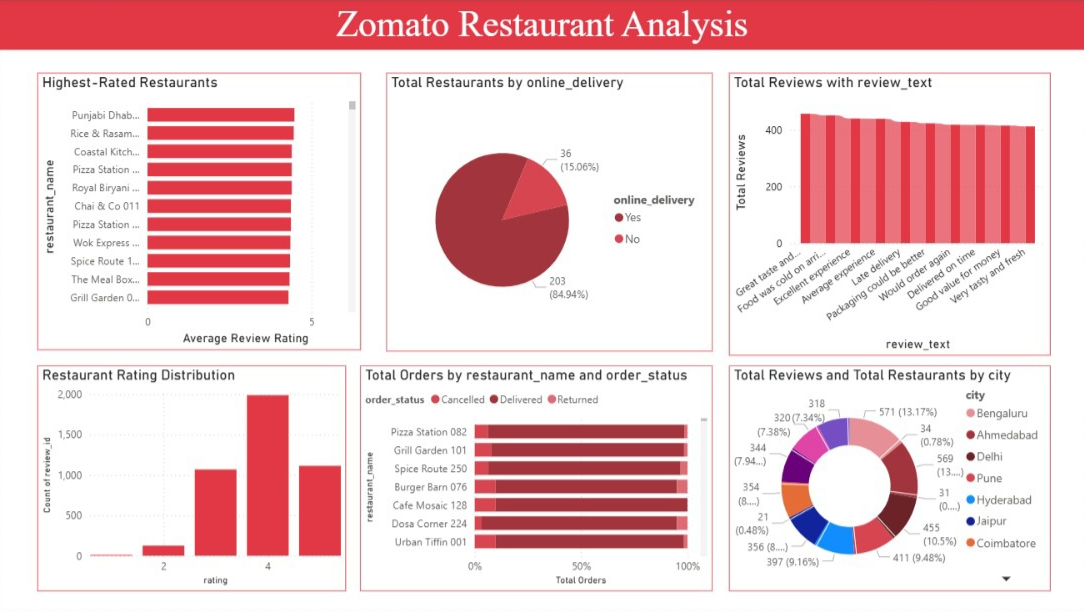

Layout of this report page (visuals, bound fields, positions):
{"tool":"powerbi","page":{"name":"Zomato Restaurant Analysis","canvas":[1280,720],"ordinal":1},"visuals":[{"type":"clusteredBarChart","title":"Highest-Rated Restaurants","fields":{"Category":["zomato_analytics restaurants.restaurant_name"],"Y":["zomato_analytics reviews.Average Review Rating"]},"box":[47.5,86.4,379.7,325.4],"z":0},{"type":"ribbonChart","title":"Total Reviews with review_text","fields":{"Category":["zomato_analytics reviews.review_text"],"Y":["zomato_analytics restaurants.Total Reviews"]},"box":[859.3,86.4,378,332.2],"z":1000},{"type":"donutChart","fields":{"Y":["zomato_analytics restaurants.Total Reviews","zomato_analytics restaurants.Total Restaurants"],"Category":["zomato_analytics restaurants.city"]},"box":[859.3,430.5,378,264.4],"z":2000},{"type":"pieChart","fields":{"Category":["zomato_analytics restaurants.online_delivery"],"Y":["zomato_analytics restaurants.Total Restaurants"]},"box":[457.6,86.4,383.1,327.1],"z":3000},{"type":"hundredPercentStackedBarChart","fields":{"Category":["zomato_analytics restaurants.restaurant_name"],"Y":["zomato_analytics orders.Total Orders"],"Series":["zomato_analytics orders.order_status"]},"box":[427.1,430.5,413.6,264.4],"z":4000},{"type":"clusteredColumnChart","title":"Restaurant Rating Distribution","fields":{"Category":["zomato_analytics reviews.rating"],"Y":["CountNonNull(zomato_analytics reviews.review_id)"]},"box":[47.5,430.5,362.7,264.4],"z":5000},{"type":"textbox","box":[0,0,1280.5,59.7],"z":6000}]}

Visuals, with their boxes in screenshot pixels (x1, y1, x2, y2), scaled from the page's 1280x720 canvas onto the 1084x612 screenshot:
"Highest-Rated Restaurants" clusteredBarChart: 40:73:362:350
"Total Reviews with review_text" ribbonChart: 728:73:1048:356
donutChart - zomato_analytics restaurants.Total Reviews x zomato_analytics restaurants.Total Restaurants: 728:366:1048:591
pieChart - zomato_analytics restaurants.online_delivery x zomato_analytics restaurants.Total Restaurants: 388:73:712:351
hundredPercentStackedBarChart - zomato_analytics restaurants.restaurant_name x zomato_analytics orders.Total Orders: 362:366:712:591
"Restaurant Rating Distribution" clusteredColumnChart: 40:366:347:591
textbox: 0:0:1083:51
